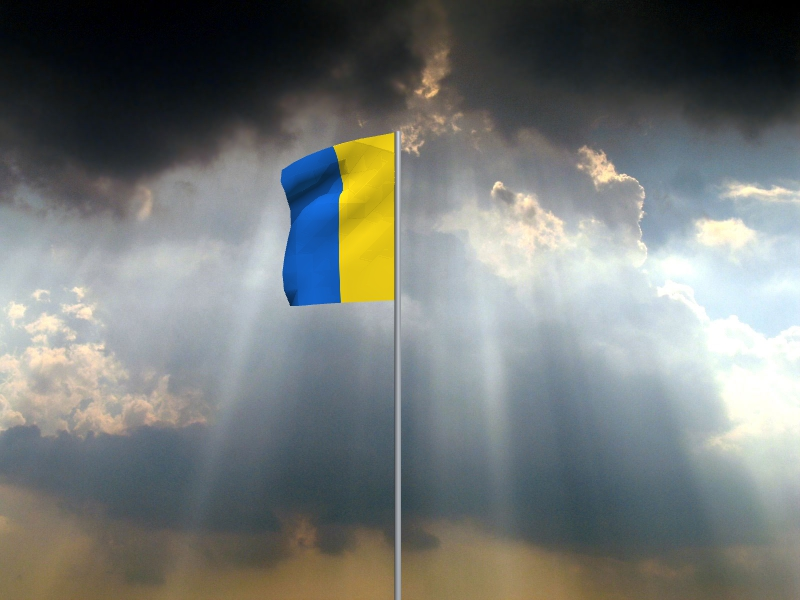ua: (281, 135, 396, 308)
